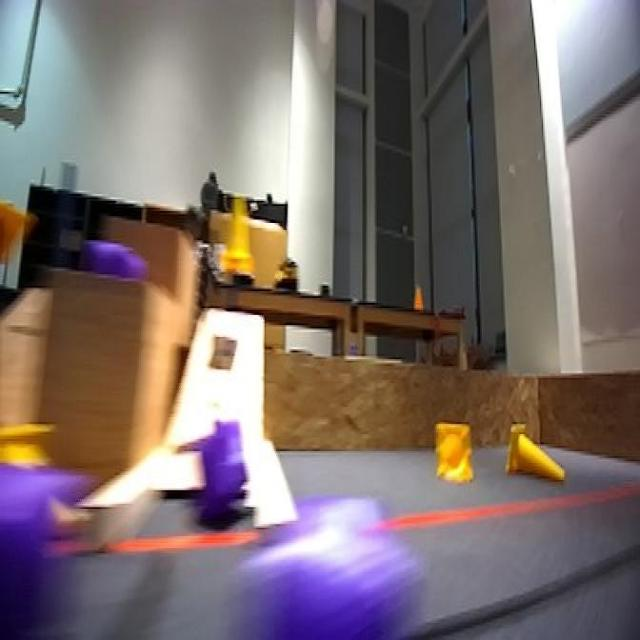frc_cone: (217, 165, 271, 296), (504, 412, 574, 495), (0, 418, 71, 473), (0, 182, 30, 269), (433, 420, 472, 480)
frc_cube: (223, 485, 407, 640), (0, 453, 63, 640), (190, 403, 250, 531), (79, 230, 138, 294)
